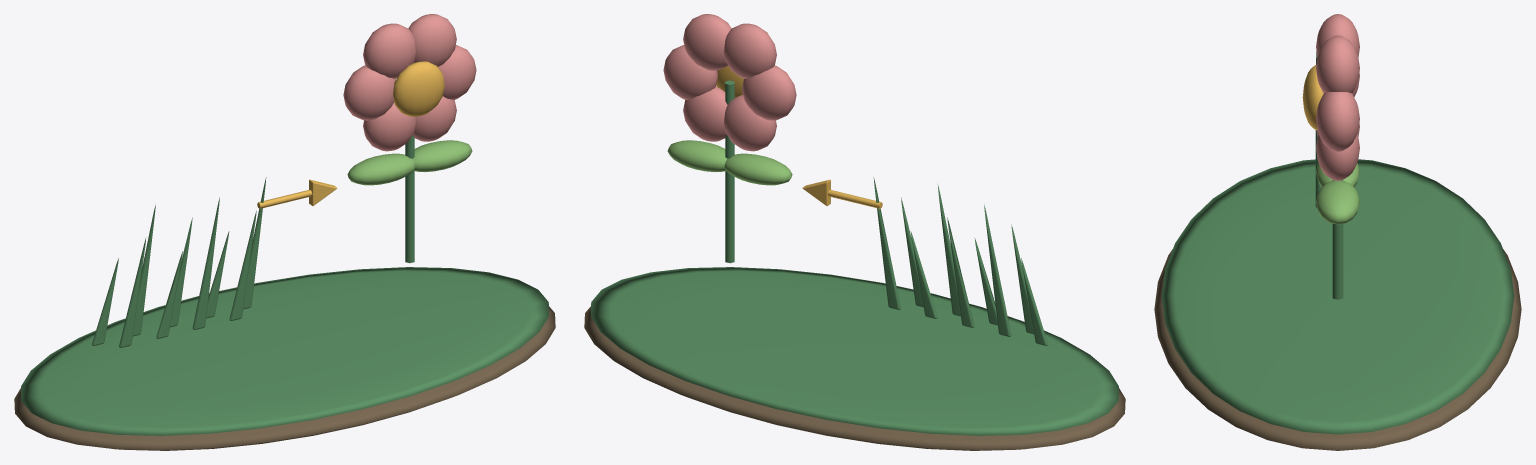
File: flower-change.glb
3 renders of one model, left to right at view 1: azimuth 30°, elevation 25°; view 2: azimuth 150°, elevation 25°; view 3: azimuth 270°, elevation 25°, orthographic. The views are drawn at different scales.
Visible parts, largest first — view 1: flower-change_surface_01, flower-change_surface_04, flower-change_surface_00, flower-change_surface_02, flower-change_surface_03; view 2: flower-change_surface_01, flower-change_surface_04, flower-change_surface_00, flower-change_surface_03, flower-change_surface_02; view 3: flower-change_surface_01, flower-change_surface_00, flower-change_surface_04, flower-change_surface_03, flower-change_surface_02.
Part boxes in pixels (x1=…): flower-change_surface_01: x1=21, y1=135, x2=548, y2=435; flower-change_surface_04: x1=343, y1=14, x2=476, y2=151; flower-change_surface_00: x1=14, y1=306, x2=555, y2=450; flower-change_surface_02: x1=257, y1=61, x2=444, y2=208; flower-change_surface_03: x1=347, y1=140, x2=472, y2=185; flower-change_surface_01: x1=591, y1=80, x2=1118, y2=435; flower-change_surface_04: x1=663, y1=14, x2=796, y2=151; flower-change_surface_00: x1=584, y1=306, x2=1125, y2=450; flower-change_surface_03: x1=667, y1=140, x2=792, y2=185; flower-change_surface_02: x1=716, y1=66, x2=882, y2=208; flower-change_surface_01: x1=1161, y1=51, x2=1514, y2=434; flower-change_surface_00: x1=1154, y1=249, x2=1521, y2=450; flower-change_surface_04: x1=1316, y1=14, x2=1359, y2=180; flower-change_surface_03: x1=1316, y1=163, x2=1359, y2=224; flower-change_surface_02: x1=1302, y1=65, x2=1323, y2=130.
Bounding box in the file's own units: 4.56 × 2.76 × 2.5.
